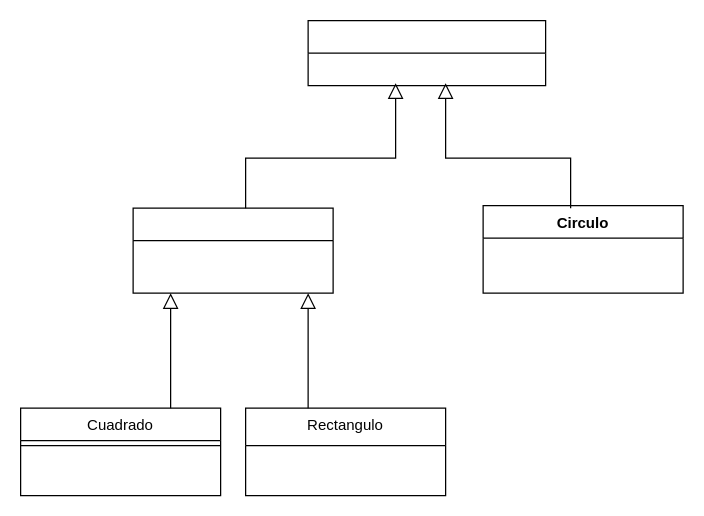
Some shapes in this 704 by 516 pixel diagram are drawn without their labels. The centre of each missing label's shape, as x and y in pixels:
"Figura" belongs at point 426,52.
"Polinogo" belongs at point 232,250.
